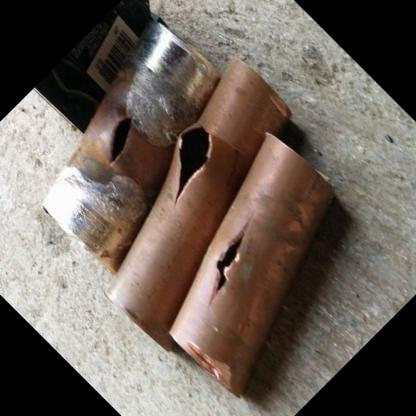burst: (199, 229, 265, 297), (165, 125, 217, 206), (100, 112, 145, 173)
